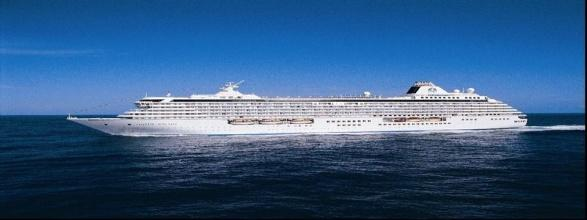youlun: (59, 72, 528, 145)
